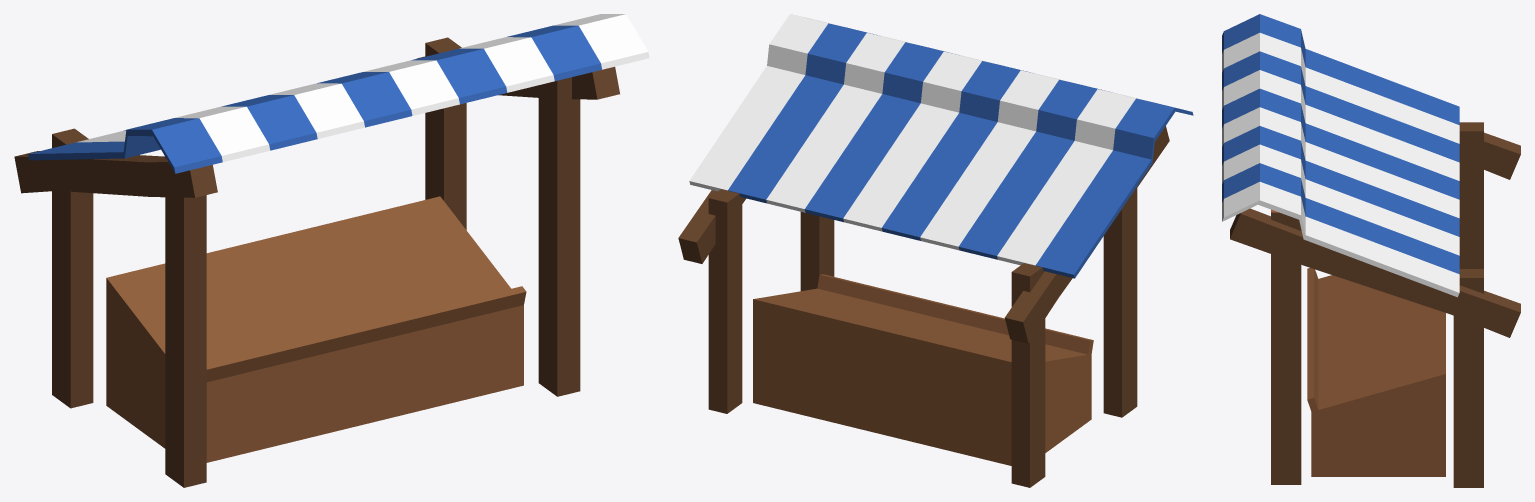
The model's file is stand_broken.fbx.
3 renders of one model, left to right at view 1: azimuth 30°, elevation 25°; view 2: azimuth 150°, elevation 25°; view 3: azimuth 270°, elevation 25°, orthographic. The views are drawn at different scales.
Parts seen in each view (by area): view 1: stand_Part_3, stand_Part_17, stand_Part_18, stand_Part_4, stand_Part_16, stand_Part_2, stand_Part_7, stand_Part_10, stand_Part_24, stand_Part_5, stand_Part_27, stand_Part_6 (+10 smaller); view 2: stand_Part_24, stand_Part_26, stand_Part_17, stand_Part_27, stand_Part_1, stand_Part_4, stand_Part_7, stand_Part_20, stand_Part_13, stand_Part_9, stand_Part_6, stand_Part_2 (+14 smaller); view 3: stand_Part_24, stand_Part_26, stand_Part_17, stand_Part_5, stand_Part_10, stand_Part_1, stand_Part_20, stand_Part_27, stand_Part_4, stand_Part_14, stand_Part_3, stand_Part_7 (+5 smaller).
Part boxes in pixels (x1=…): stand_Part_3: x1=227, y1=239, x2=373, y2=446; stand_Part_17: x1=268, y1=42, x2=537, y2=148; stand_Part_18: x1=115, y1=270, x2=272, y2=449; stand_Part_4: x1=264, y1=213, x2=477, y2=322; stand_Part_16: x1=320, y1=298, x2=452, y2=435; stand_Part_2: x1=37, y1=128, x2=217, y2=297; stand_Part_7: x1=14, y1=151, x2=93, y2=408; stand_Part_10: x1=535, y1=66, x2=619, y2=273; stand_Part_24: x1=28, y1=94, x2=276, y2=173; stand_Part_5: x1=431, y1=267, x2=526, y2=407; stand_Part_27: x1=466, y1=14, x2=649, y2=85; stand_Part_6: x1=165, y1=292, x2=206, y2=445; stand_Part_24: x1=918, y1=85, x2=1193, y2=278; stand_Part_26: x1=689, y1=78, x2=906, y2=219; stand_Part_17: x1=879, y1=36, x2=1097, y2=186; stand_Part_27: x1=759, y1=14, x2=891, y2=112; stand_Part_1: x1=678, y1=221, x2=742, y2=413; stand_Part_4: x1=804, y1=284, x2=910, y2=411; stand_Part_7: x1=1004, y1=292, x2=1053, y2=487; stand_Part_20: x1=753, y1=292, x2=810, y2=414; stand_Part_13: x1=908, y1=338, x2=1003, y2=429; stand_Part_9: x1=803, y1=338, x2=910, y2=429; stand_Part_6: x1=1103, y1=252, x2=1137, y2=375; stand_Part_2: x1=1011, y1=126, x2=1169, y2=304; stand_Part_24: x1=1222, y1=14, x2=1459, y2=181; stand_Part_26: x1=1322, y1=179, x2=1459, y2=297; stand_Part_17: x1=1222, y1=60, x2=1401, y2=180; stand_Part_5: x1=1307, y1=377, x2=1433, y2=476; stand_Part_10: x1=1230, y1=208, x2=1329, y2=388; stand_Part_1: x1=1453, y1=294, x2=1520, y2=487; stand_Part_20: x1=1359, y1=346, x2=1445, y2=476; stand_Part_27: x1=1222, y1=155, x2=1326, y2=246; stand_Part_4: x1=1307, y1=309, x2=1445, y2=391; stand_Part_14: x1=1325, y1=247, x2=1497, y2=318; stand_Part_3: x1=1307, y1=294, x2=1434, y2=347; stand_Part_7: x1=1459, y1=134, x2=1520, y2=268.
Size of the model in its own units: 402 by 306 by 273.
1 material, 1 textured.
